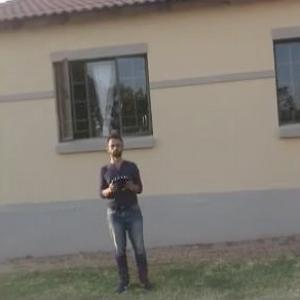follow: (98, 129, 153, 296)
